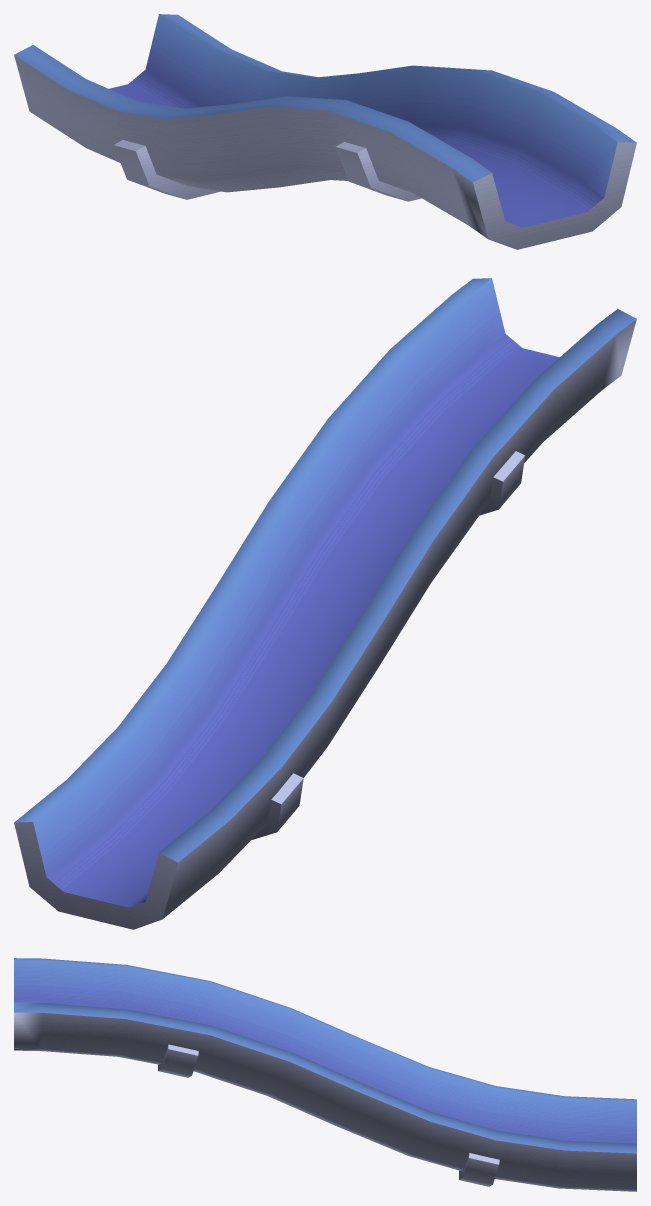
Rendered from coaster-flume-straight-hill-complete.glb.
3 views of the same model, one above another, from view 1: azimuth 30°, elevation 25°; view 2: azimuth 150°, elevation 25°; view 3: azimuth 270°, elevation 25° (orthographic). The views are drawn at different scales.
Visible parts, largest first — view 1: coaster-flume-straight-hill-complete; view 2: coaster-flume-straight-hill-complete; view 3: coaster-flume-straight-hill-complete.
Boxes of the visible parts, box(x1,y1,x2,y2) form: coaster-flume-straight-hill-complete: box(14, 14, 636, 249); coaster-flume-straight-hill-complete: box(14, 278, 636, 929); coaster-flume-straight-hill-complete: box(14, 958, 636, 1191).
Bounding box in the file's own units: 2.53 × 4.2 × 12.
Materials: 1 (1 with a texture image).
